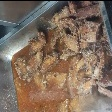hongshaodaiyu: (9, 0, 112, 112)
